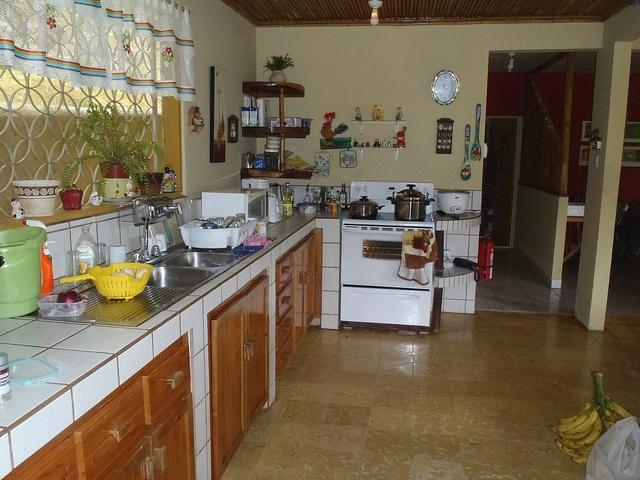APAR: (475, 227, 494, 279)
